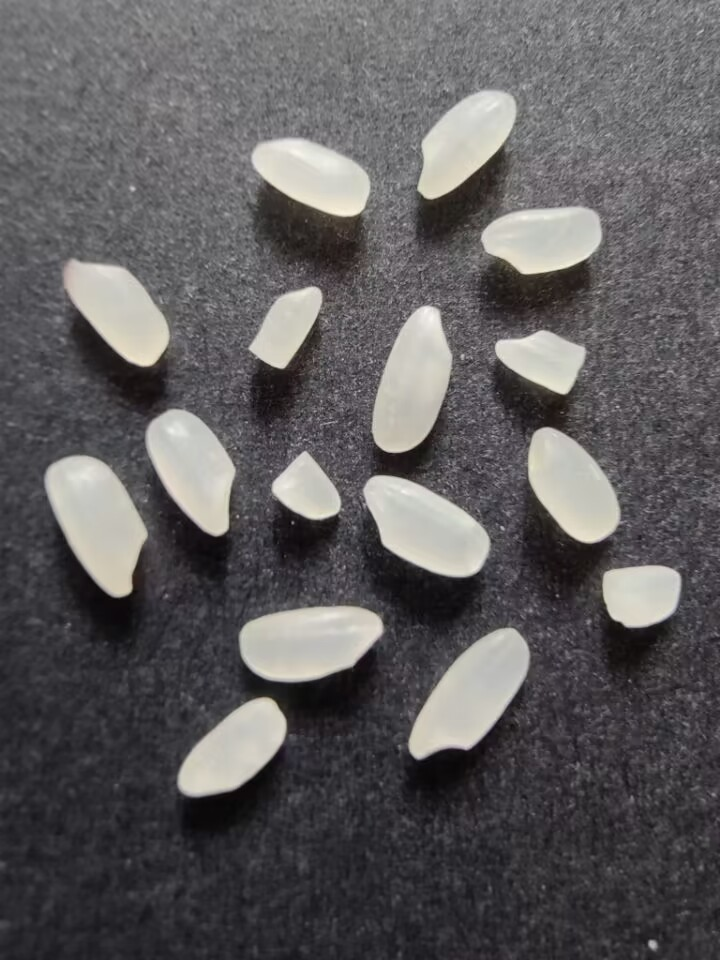broken: (489, 327, 591, 397), (246, 284, 326, 373), (597, 558, 686, 633), (266, 448, 347, 523)
rice: (405, 626, 533, 763), (43, 454, 149, 606), (357, 473, 494, 580), (368, 300, 456, 455), (58, 254, 172, 373), (144, 406, 243, 542), (524, 420, 626, 545), (174, 693, 290, 802), (237, 603, 387, 684), (414, 87, 520, 200), (245, 135, 374, 220), (478, 203, 607, 277)
